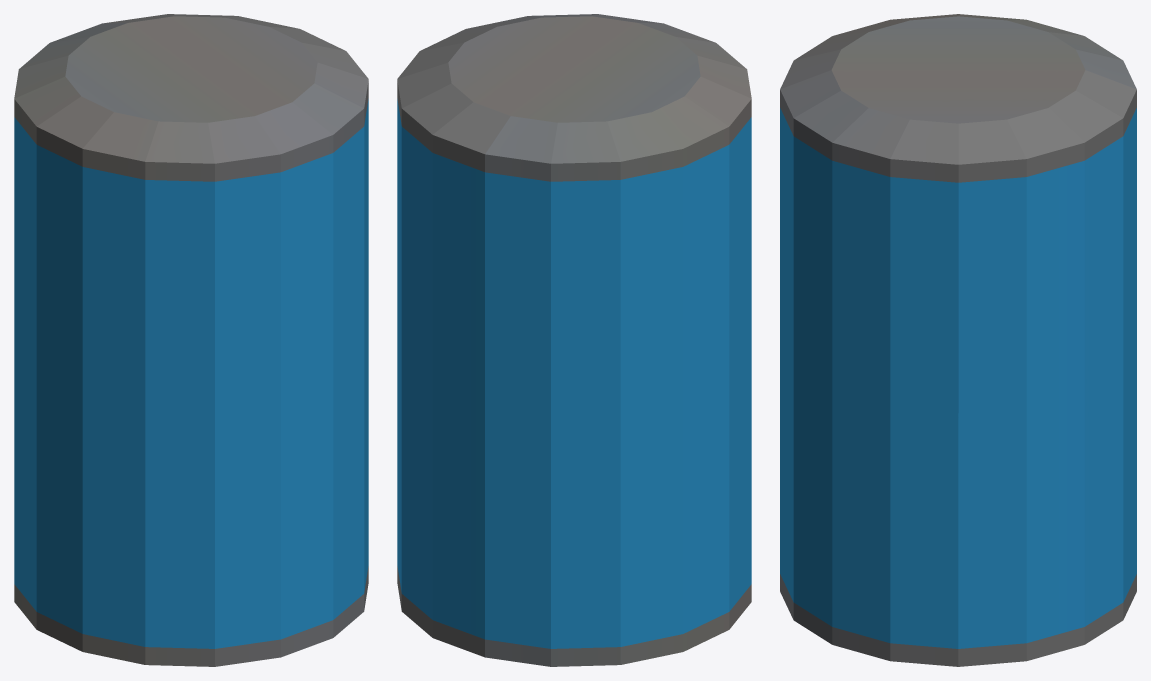
File: SodaCan.fbx
3 views of the same model, side by side, from view 1: azimuth 30°, elevation 25°; view 2: azimuth 150°, elevation 25°; view 3: azimuth 270°, elevation 25° (orthographic).
Visible parts, largest first — view 1: SodaCan; view 2: SodaCan; view 3: SodaCan.
Part boxes in pixels (x1=…): SodaCan: x1=14, y1=14, x2=368, y2=666; SodaCan: x1=397, y1=14, x2=751, y2=666; SodaCan: x1=780, y1=14, x2=1136, y2=666.
Bounding box in the file's own units: 18.38 × 30.73 × 18.38.
